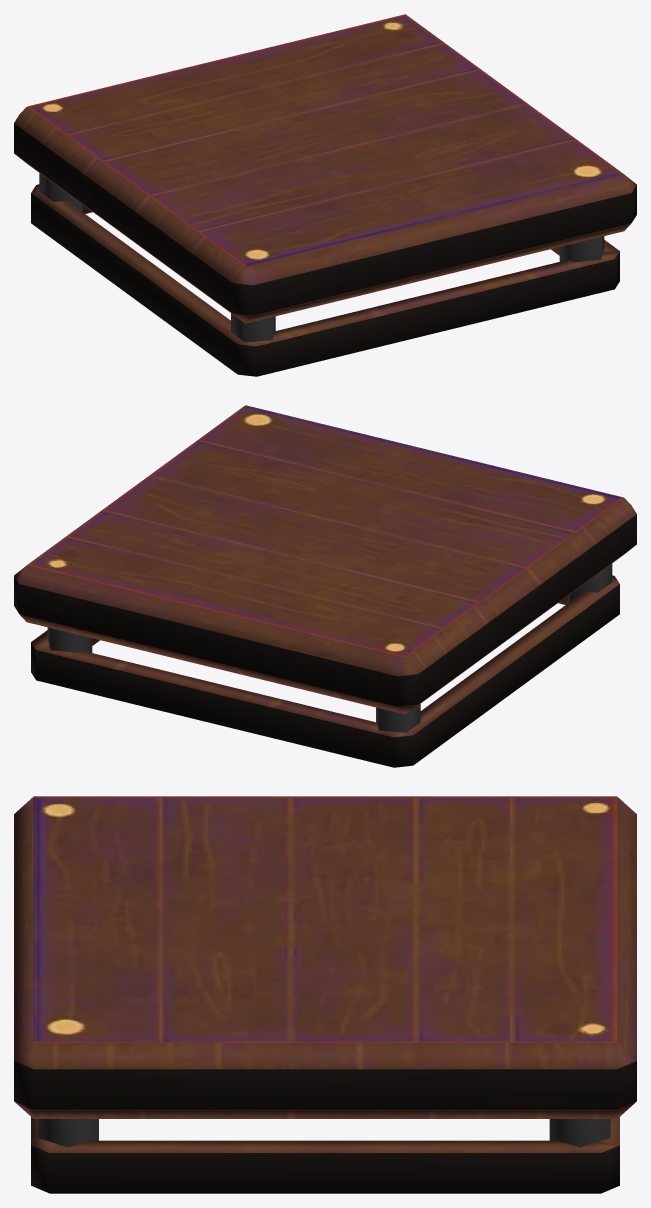
The model's file is pm-platform.glb.
3 views of the same model, one above another, from view 1: azimuth 30°, elevation 25°; view 2: azimuth 150°, elevation 25°; view 3: azimuth 270°, elevation 25° (orthographic). The views are drawn at different scales.
Parts seen in each view (by area): view 1: Platform_Art; view 2: Platform_Art; view 3: Platform_Art.
Boxes of the visible parts, x1,y1,x2,y2 form: Platform_Art: [14, 14, 636, 376]; Platform_Art: [14, 405, 636, 767]; Platform_Art: [14, 796, 636, 1193].
Bounding box in the file's own units: 1.65 × 0.4483 × 1.65.
1 material, 1 textured.
